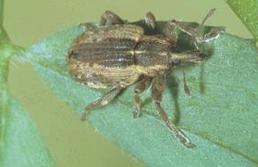weevils: (51, 0, 243, 155)
